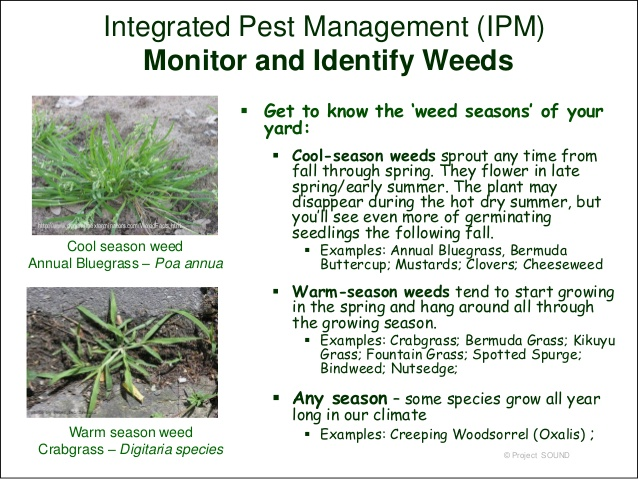crabgrass: (35, 289, 192, 398)
